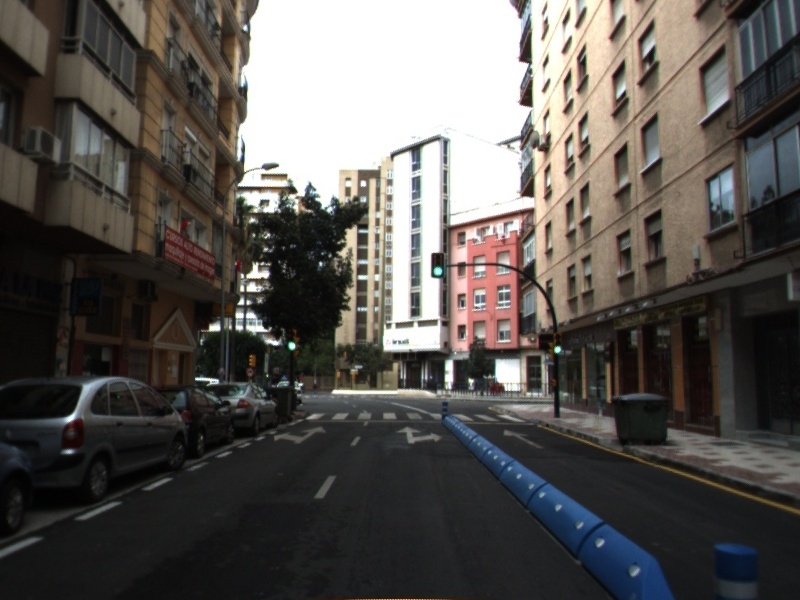STRAIGHT: (501, 427, 548, 450)
STRAIGHT_LEFT: (271, 424, 329, 445)
STRAIGHT_RIGHT: (394, 424, 445, 445)
